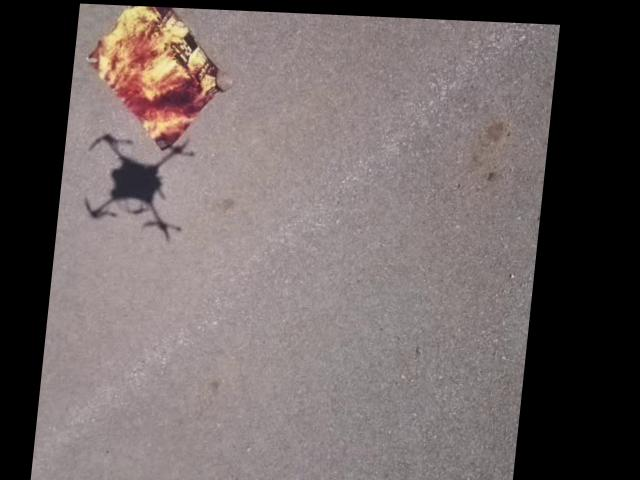fire-poster: (78, 3, 241, 151)
